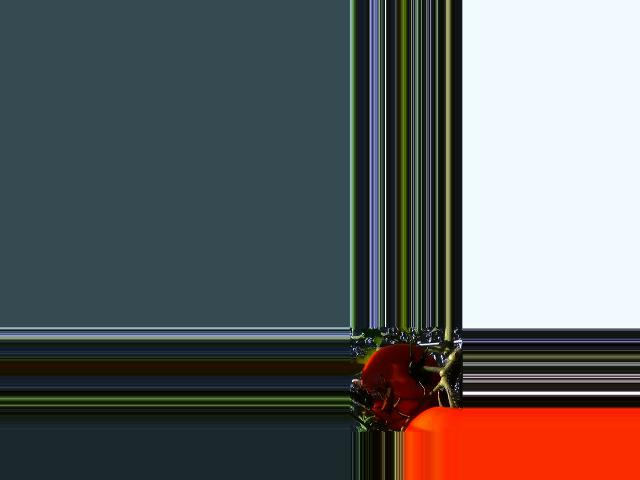tomato: (359, 343, 440, 430)
